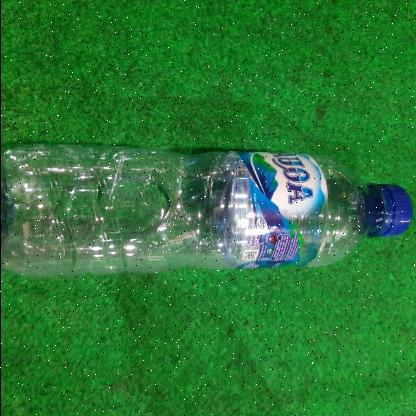Plastic Bottle: (0, 144, 416, 280)
